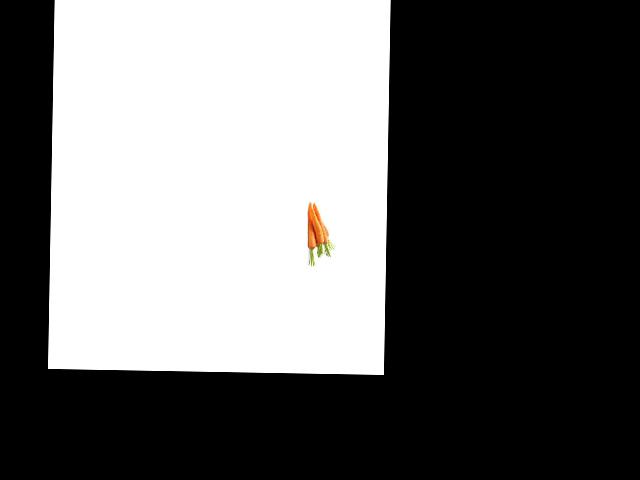carrot: (305, 201, 316, 248)
